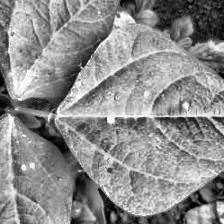Bean Rust: (55, 22, 224, 217), (0, 0, 138, 101), (0, 109, 74, 224)
